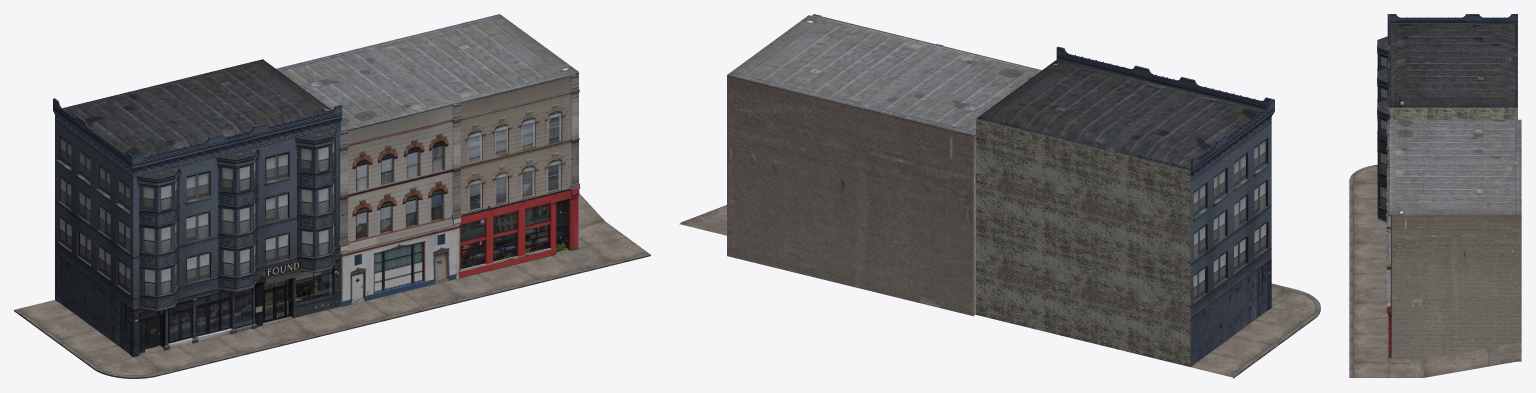
File: realistic_chicago_buildings.glb
The picture shows the model from 3 angles, left to right: view 1: azimuth 30°, elevation 25°; view 2: azimuth 150°, elevation 25°; view 3: azimuth 270°, elevation 25°; orthographic projection. The views are drawn at different scales.
Parts seen in each view (by area): view 1: Object_6, Object_12, Object_4; view 2: Object_12, Object_8, Object_6, Object_4; view 3: Object_12, Object_6, Object_4, Object_8.
Part boxes in pixels (x1,y1,x2,y2): Object_6: [53, 59, 342, 356]; Object_12: [276, 14, 580, 306]; Object_4: [14, 193, 650, 378]; Object_12: [727, 14, 1041, 316]; Object_8: [976, 119, 1190, 366]; Object_6: [976, 46, 1274, 366]; Object_4: [679, 205, 1320, 378]; Object_12: [1386, 119, 1521, 359]; Object_6: [1377, 14, 1517, 221]; Object_4: [1349, 164, 1521, 377]; Object_8: [1388, 107, 1517, 119].
Size of the model in its own units: 198 by 71.86 by 67.27.
Materials: 5 (5 with a texture image).
